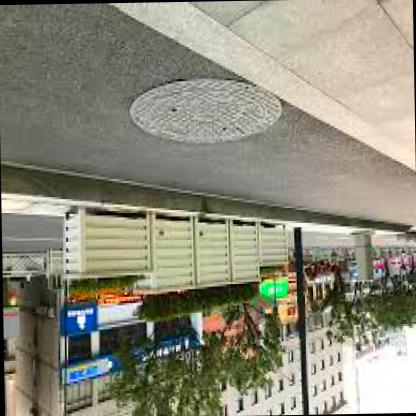manholes: (117, 65, 286, 152)
